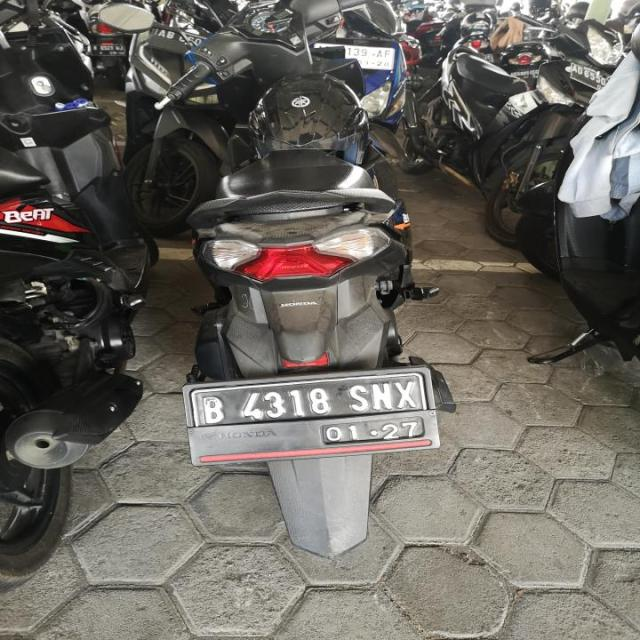License Plate: (188, 369, 432, 456), (569, 63, 610, 92)
